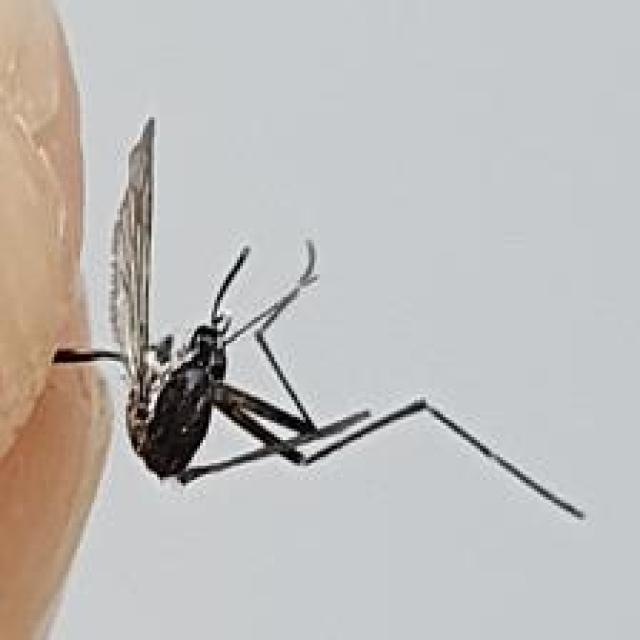Aedes albopictus: (48, 113, 586, 521)
